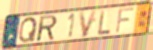1: (67, 12, 77, 39)
F: (115, 7, 136, 35)
L: (97, 9, 112, 37)
Q: (18, 16, 39, 44)
R: (37, 14, 58, 43)
V: (78, 9, 99, 39)
